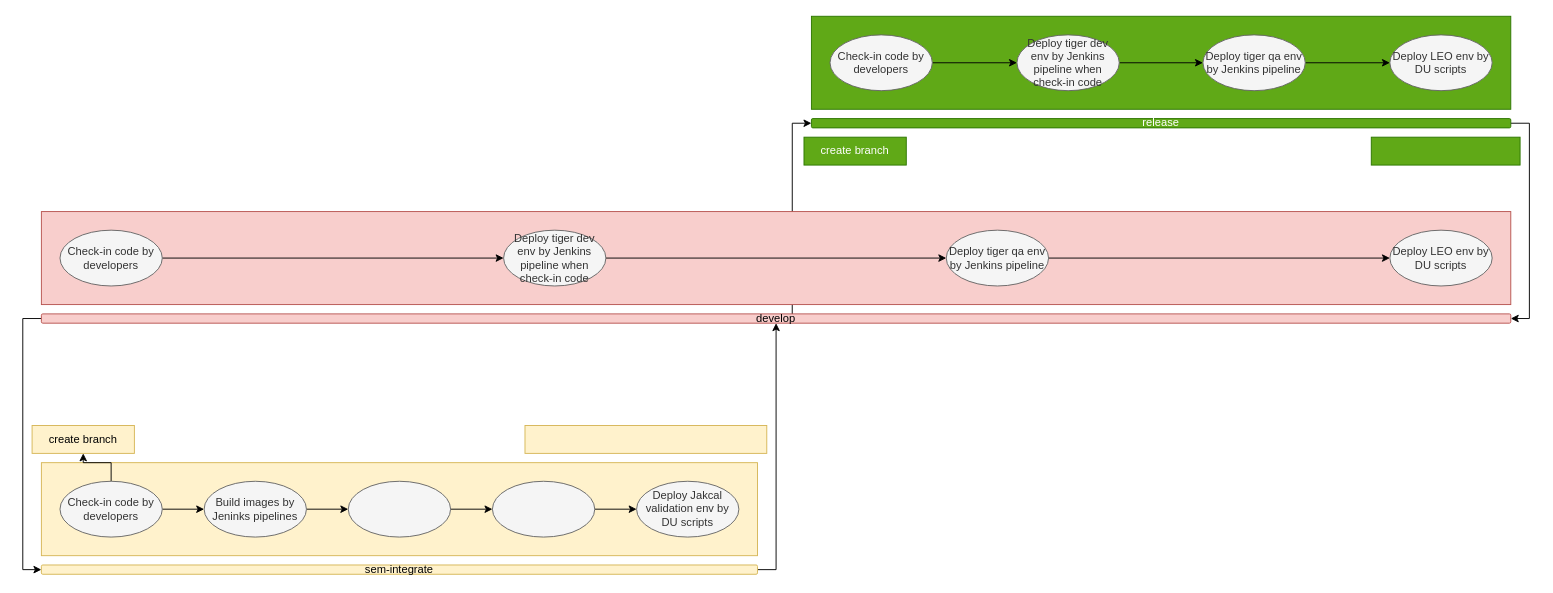
This 1553x593 diagram has some shape labels left out. The shapes that lost their labels are listed below. From the top down, each one's box as (x1, y1, x2, y2) in pixels, then its label:
(1370, 136, 1520, 165): merge branch after release
(524, 425, 767, 453): merge branch after demo & bootcamp ??
(347, 480, 451, 537): Deploy Jackal dev env by DU scripts
(492, 480, 595, 537): Deploy Jackal qa env by DU scripts
